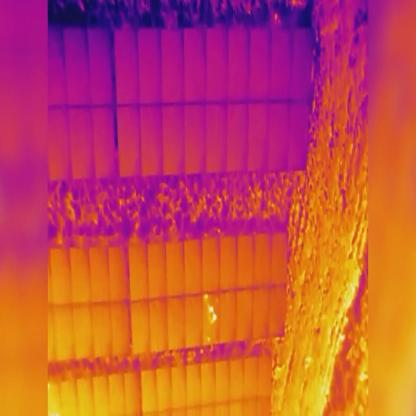panel: (181, 237, 204, 296), (127, 244, 150, 302), (164, 240, 186, 298), (146, 242, 168, 300), (217, 288, 238, 344), (200, 292, 221, 348), (148, 297, 169, 351), (183, 293, 203, 349), (218, 234, 238, 290), (202, 237, 222, 293), (267, 284, 287, 338), (166, 296, 186, 350), (129, 299, 149, 353), (269, 231, 289, 285), (235, 288, 254, 343), (237, 235, 256, 288), (254, 232, 270, 286), (253, 287, 269, 340)
